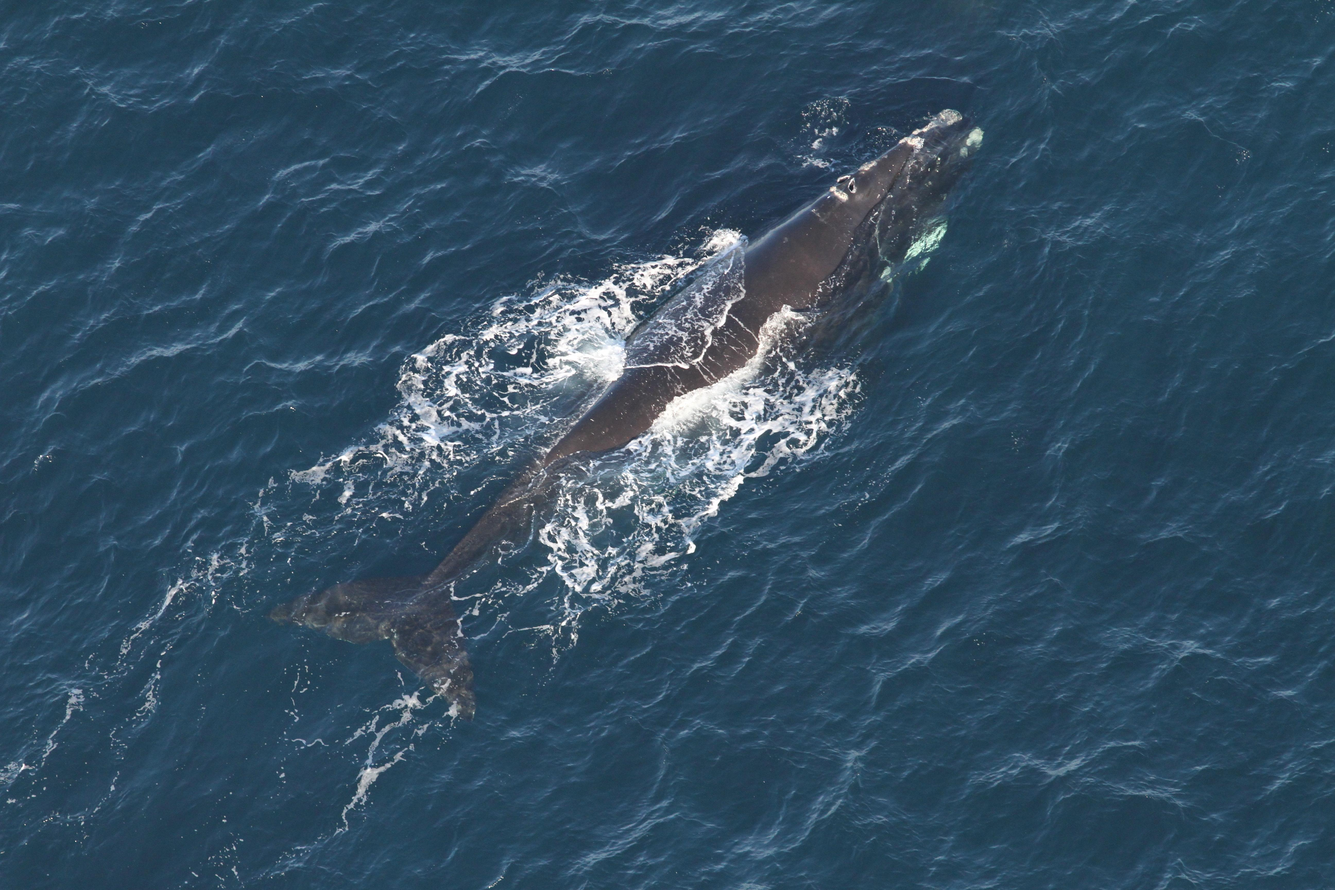whale: (259, 103, 992, 733)
